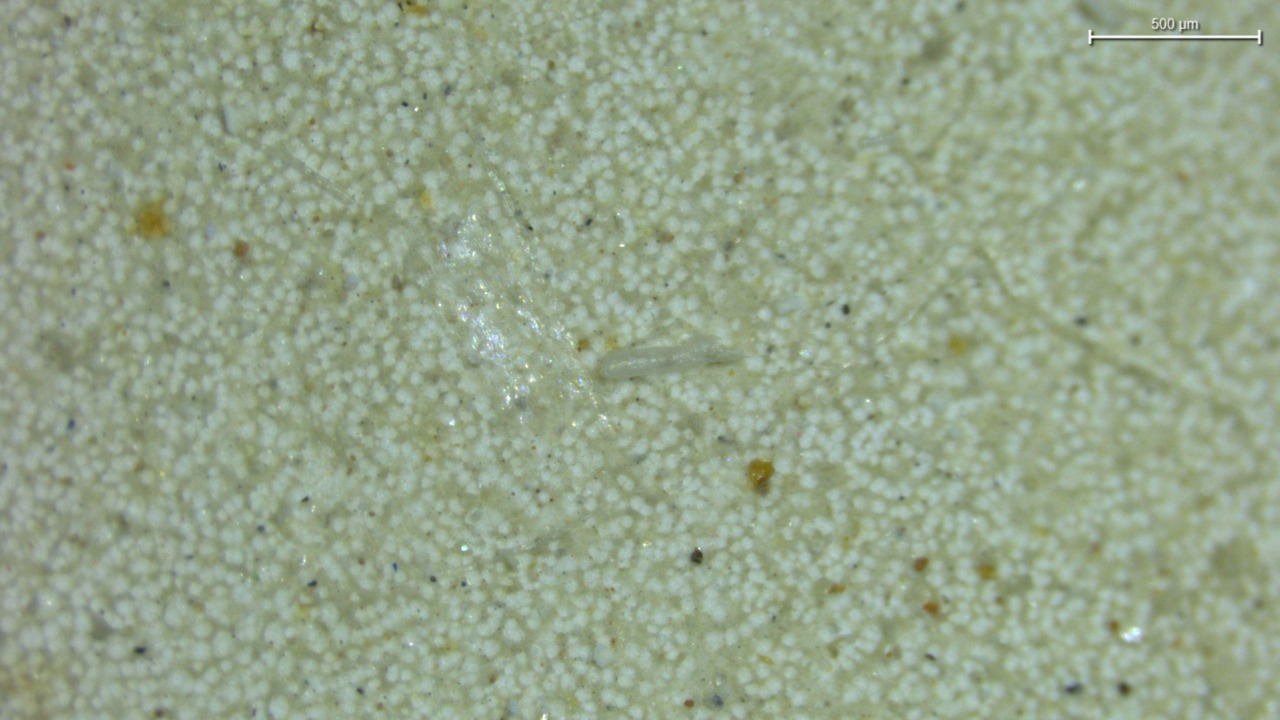microplastic_fragment: (596, 337, 740, 380)
